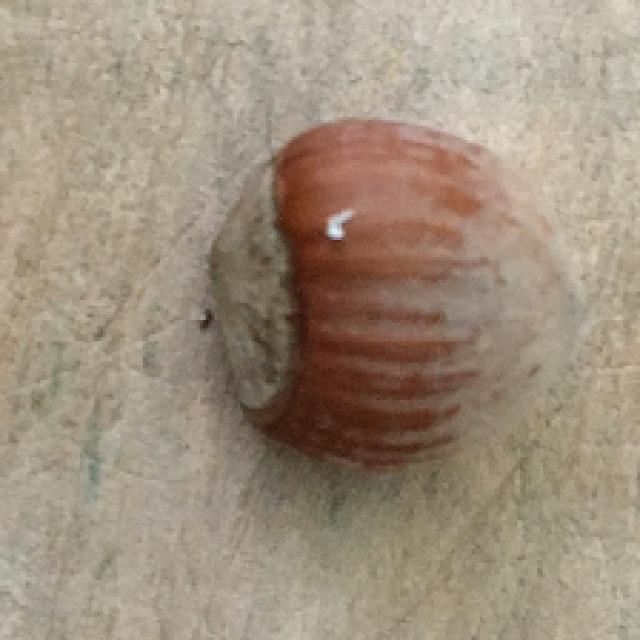qualityHazelnut: (198, 106, 602, 468)
